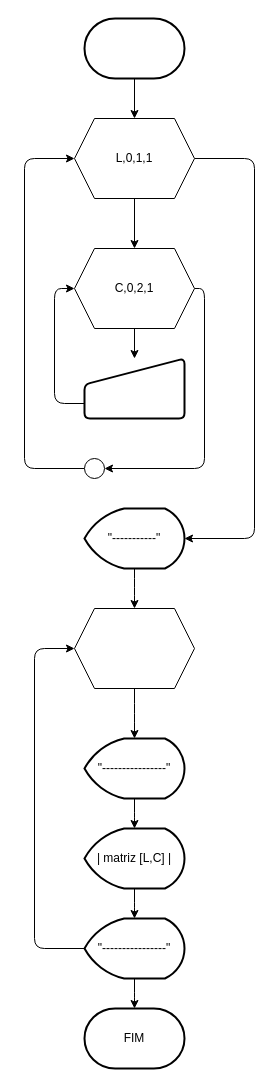
This 280x1086 diagram has some shape labels left out. Here are the shapes that lost their labels. From the top down, the centre of each, then its label:
At (x=134, y=48): "início".
At (x=134, y=388): "digite [L,C]".
At (x=134, y=648): "p,0,4,1".
